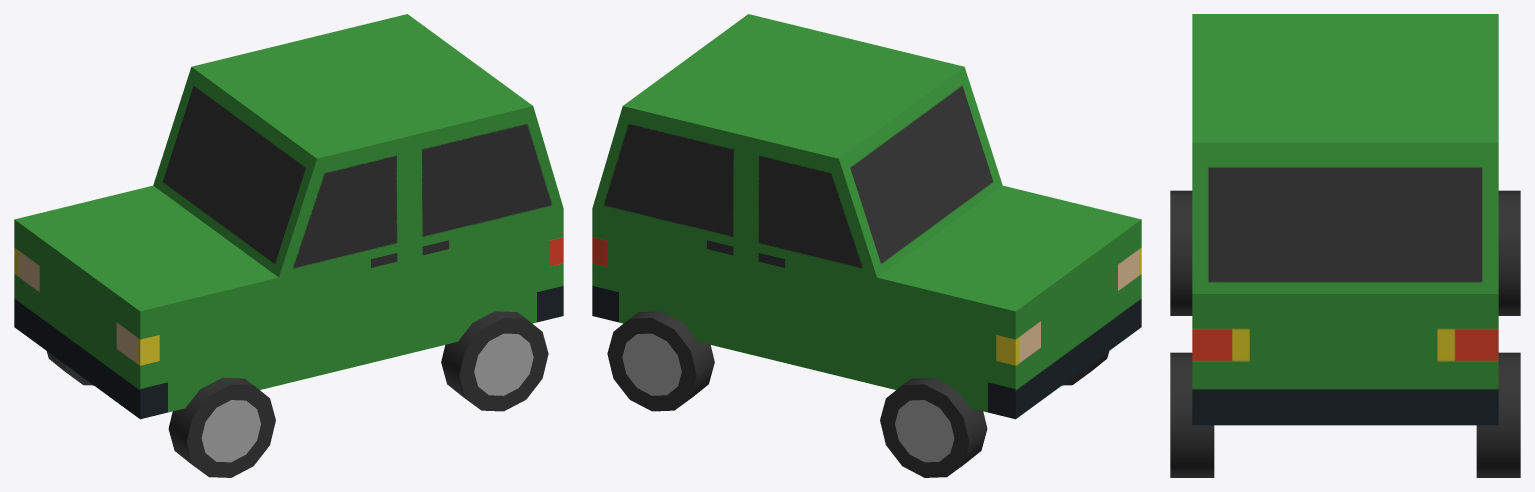
The model's file is Simple_Car_Green.FBX.
3 renders of one model, left to right at view 1: azimuth 30°, elevation 25°; view 2: azimuth 150°, elevation 25°; view 3: azimuth 270°, elevation 25°, orthographic. The views are drawn at different scales.
Visible parts, largest first — view 1: Box001; view 2: Box001; view 3: Box001.
Part boxes in pixels (x1,y1,x2,y2): Box001: (14, 14, 563, 477); Box001: (592, 14, 1141, 477); Box001: (1170, 14, 1520, 477).
Size of the model in its own units: 0.3788 by 0.2475 by 0.2229.
1 material, 1 textured.
